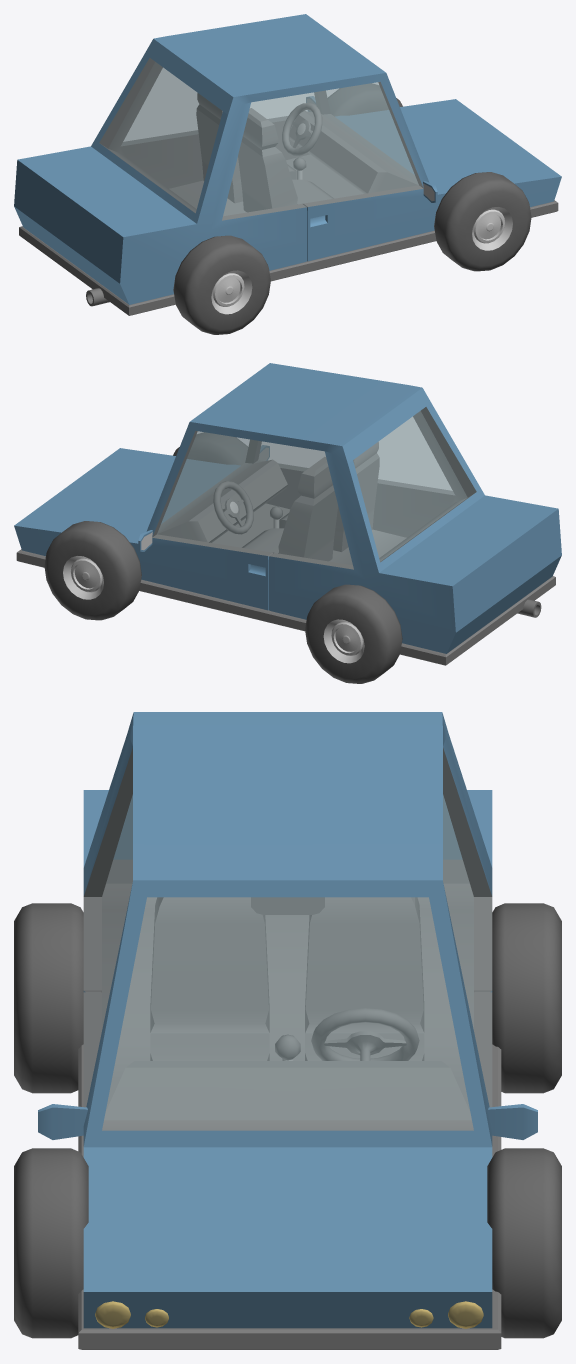
Rendered from Car02.fbx.
The picture shows the model from 3 angles, top to bottom: view 1: azimuth 30°, elevation 25°; view 2: azimuth 150°, elevation 25°; view 3: azimuth 270°, elevation 25°; orthographic projection. The views are drawn at different scales.
Parts seen in each view (by area): view 1: polySurface97; view 2: polySurface97; view 3: polySurface97.
Boxes of the visible parts, box(x1,y1,x2,y2) form: polySurface97: box(14, 14, 561, 334); polySurface97: box(14, 363, 561, 683); polySurface97: box(14, 712, 561, 1349).
Size of the model in its own units: 524 by 236 by 290.
